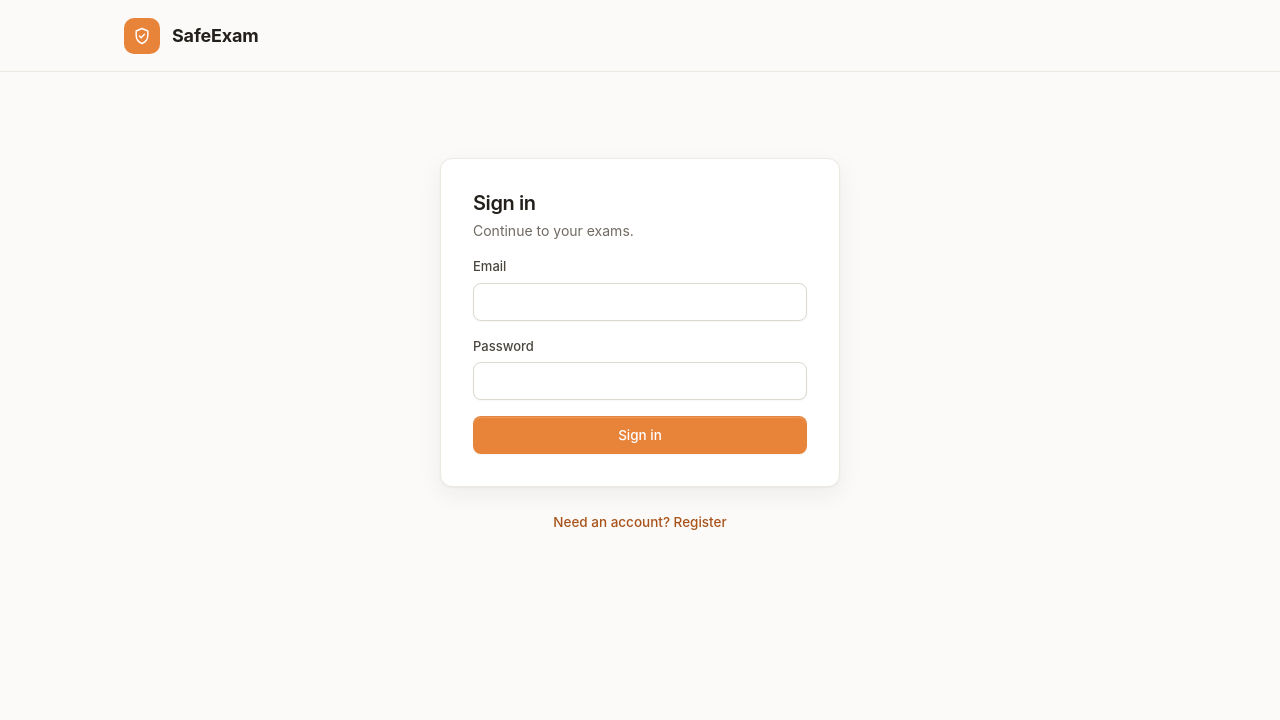
Test: auth UI › shows a visible error on wrong login
Type "s@x.com" into the field labelled "Email" at [640, 302], box [473,283,807,321]
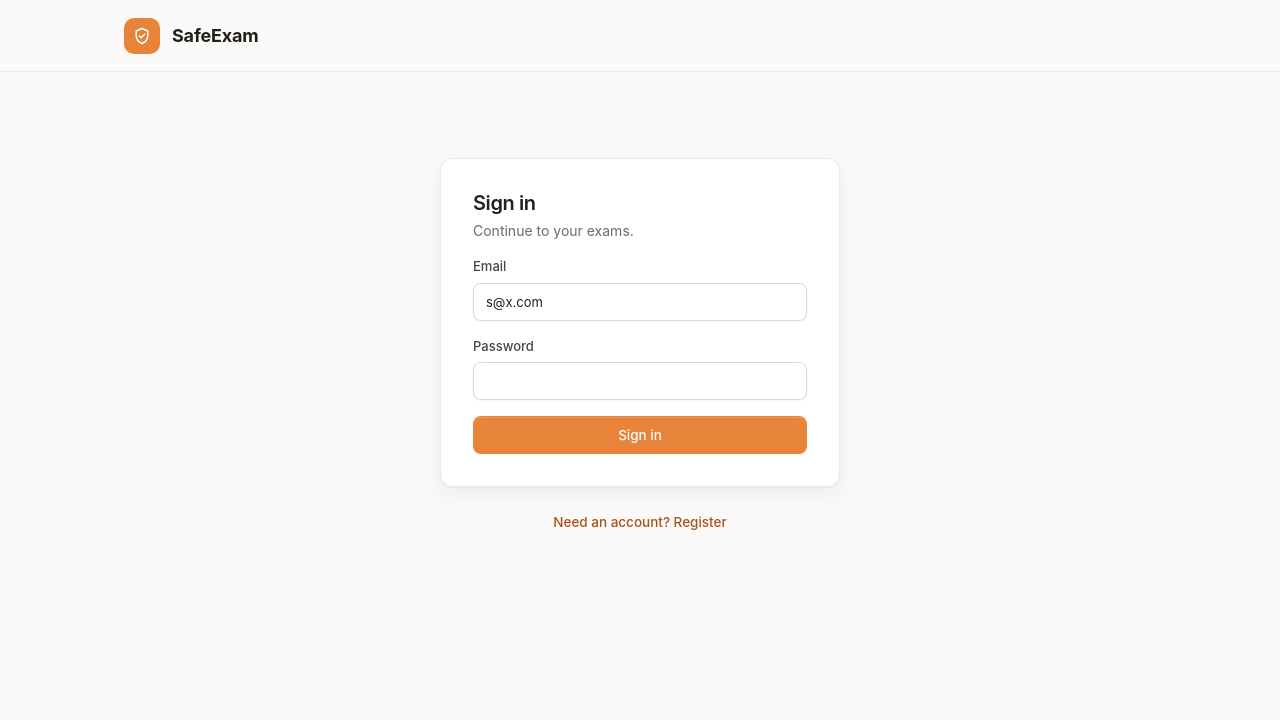
Type "wrong" into the password field labelled "Password" at [640, 381], box [473,362,807,400]
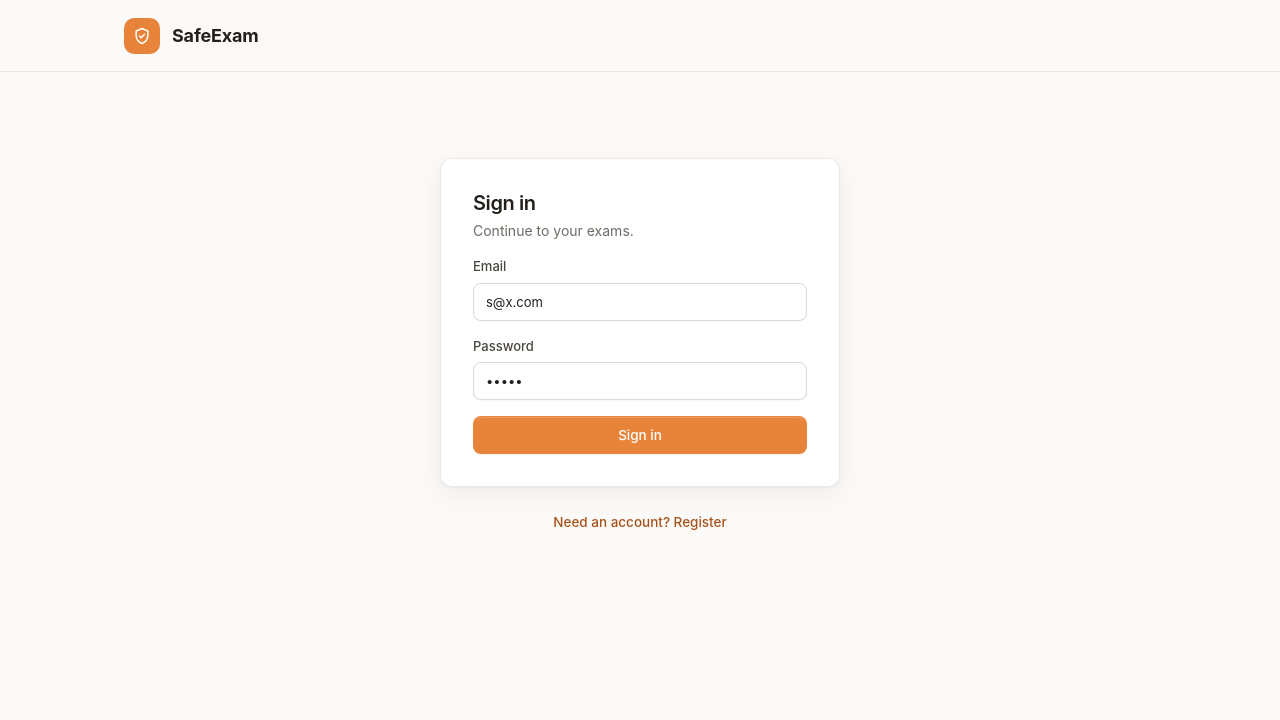
Click the button "Sign in" at [640, 435], box [473,416,807,454]
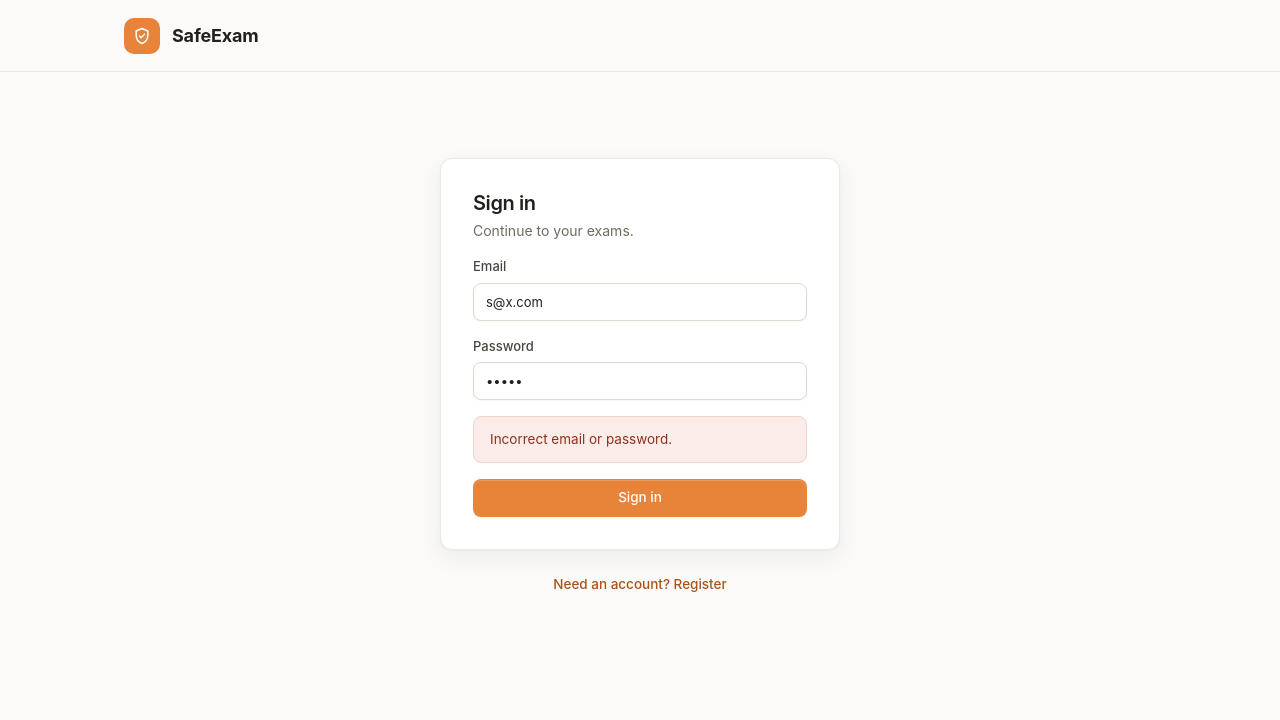
Check: the message reads "Incorrect email or password.", box [490,431,672,447]
